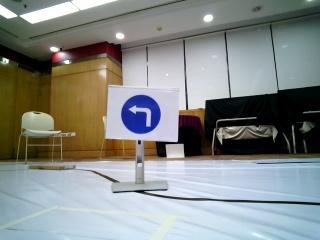left: (109, 89, 173, 140)
